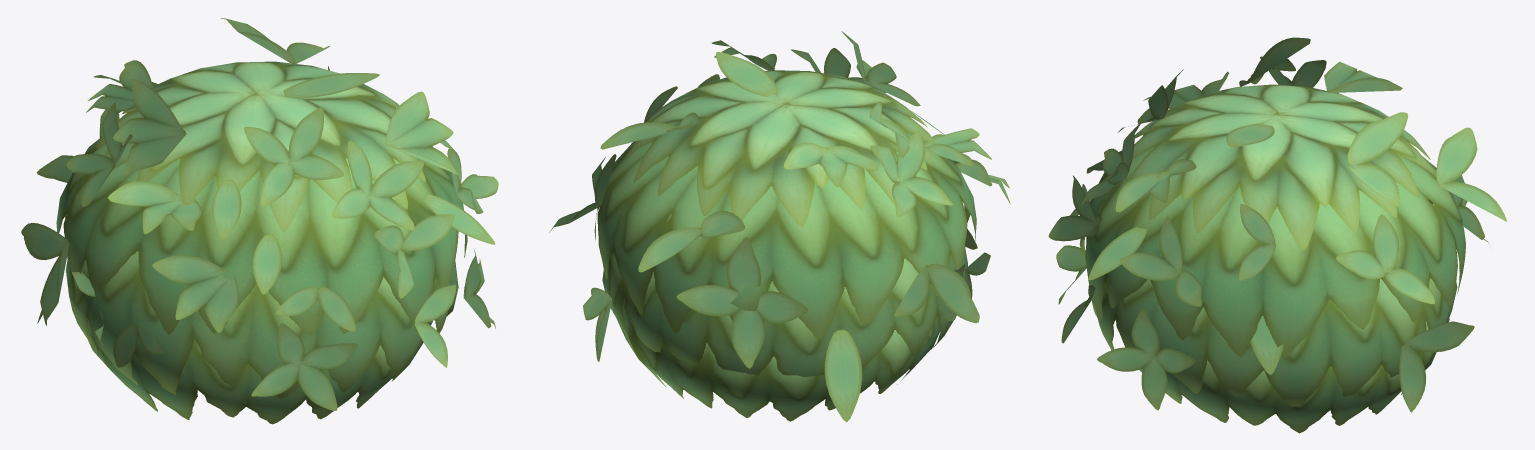
Rendered from SM_BushFull_UnityExport_CuratedMerge.fbx.
3 renders of one model, left to right at view 1: azimuth 30°, elevation 25°; view 2: azimuth 150°, elevation 25°; view 3: azimuth 270°, elevation 25°, orthographic. The views are drawn at different scales.
Visible parts, largest first — view 1: polySurface324; view 2: polySurface324; view 3: polySurface324.
Part boxes in pixels (x1,y1,x2,y2): polySurface324: [21, 18, 498, 424]; polySurface324: [549, 31, 1010, 422]; polySurface324: [1048, 37, 1506, 433].
Size of the model in its own units: 44.64 by 36.02 by 46.77.
Materials: 1 (1 with a texture image).
